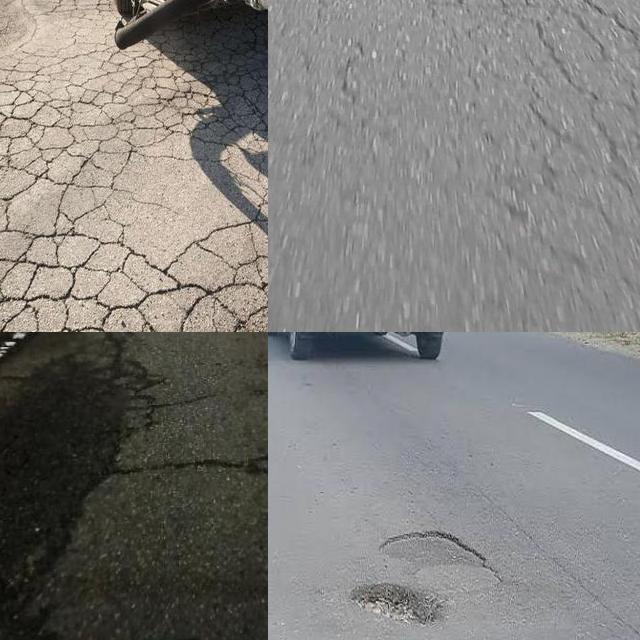Lubang: (376, 530, 487, 577), (351, 584, 429, 625)
Melintang: (120, 452, 268, 489)
Retak Buaya: (0, 15, 268, 332), (406, 0, 640, 177)
